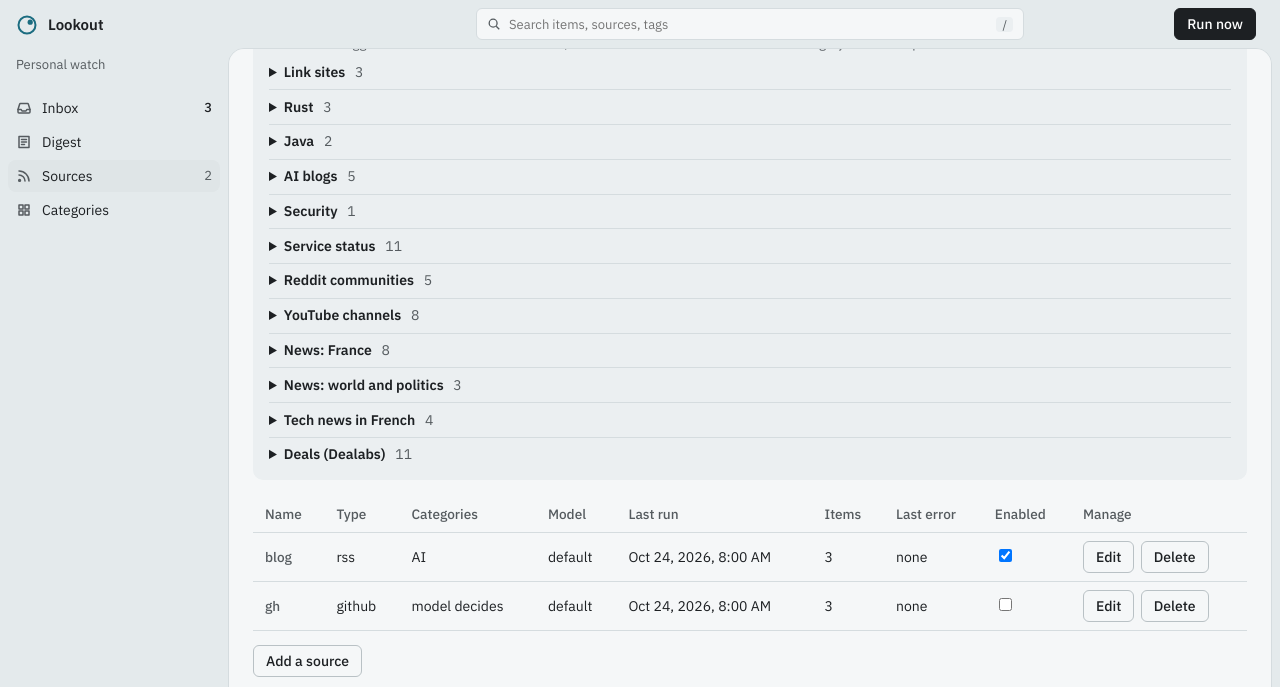
Test: sources › adds an RSS source with its channels and keywords
(page scrolled)
Click the button "Add a source": (308, 661) [253, 645, 362, 677]
(page scrolled)
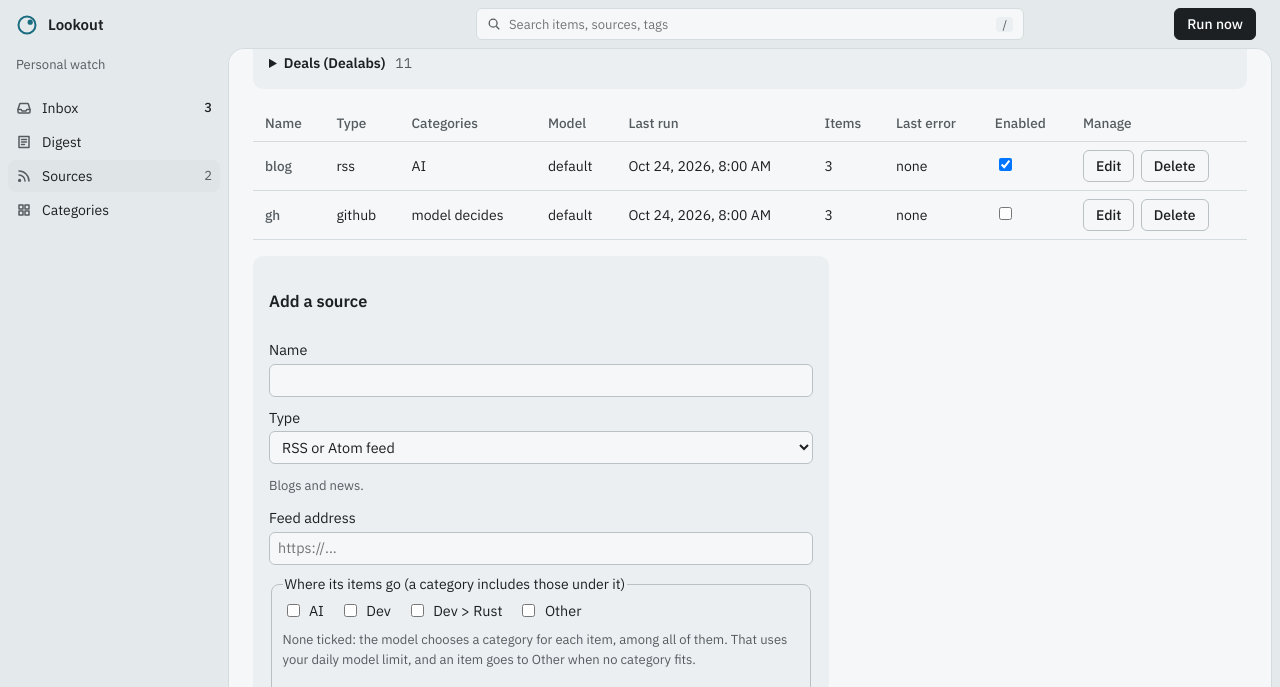
In the field labelled "Name": (541, 380) [269, 364, 813, 397], type "rust-blog"
In the field labelled "Feed address": (541, 548) [269, 532, 813, 565], type " https://rust.test/feed.xml "
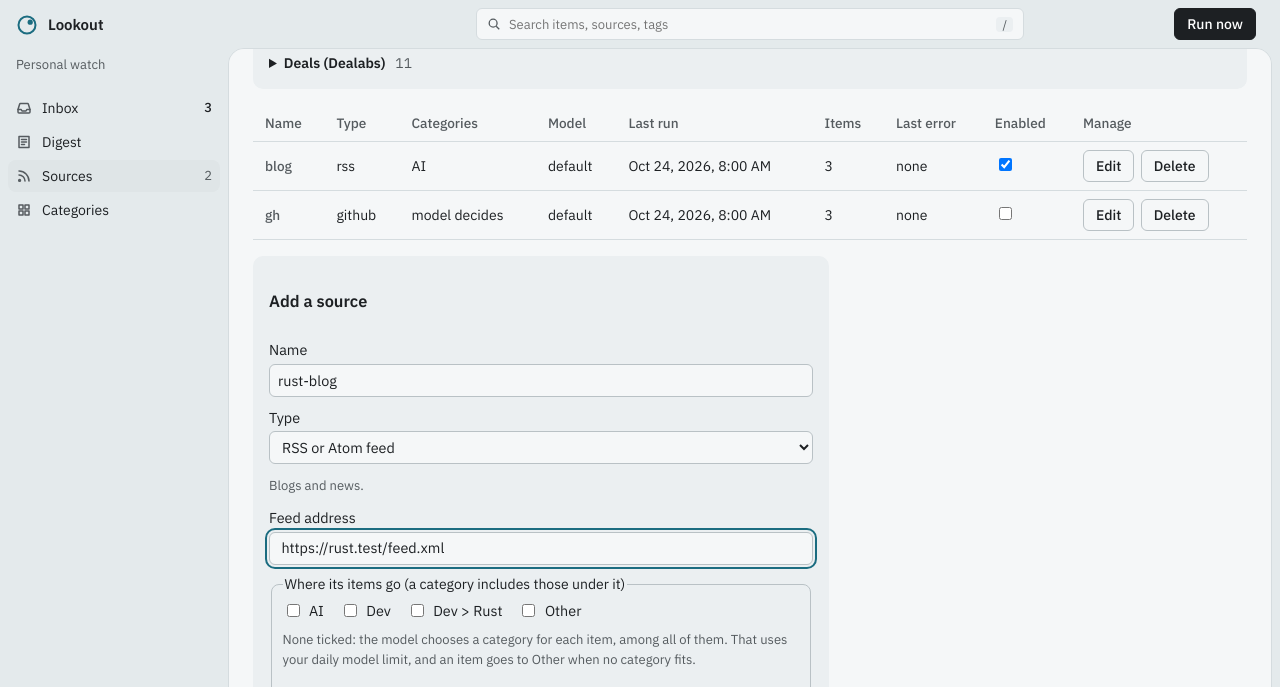
Click the checkbox labelled "Dev > Rust": (417, 611) [411, 604, 424, 618]
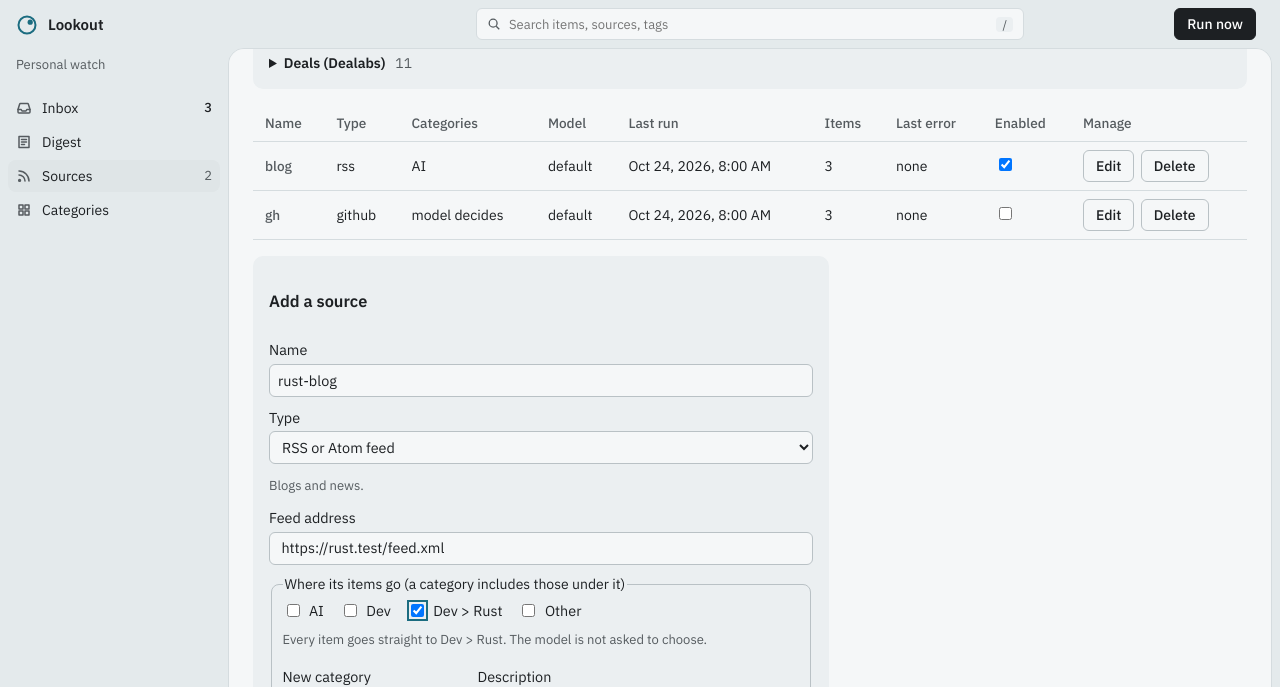
Click the checkbox labelled "AI": (293, 611) [286, 604, 300, 618]
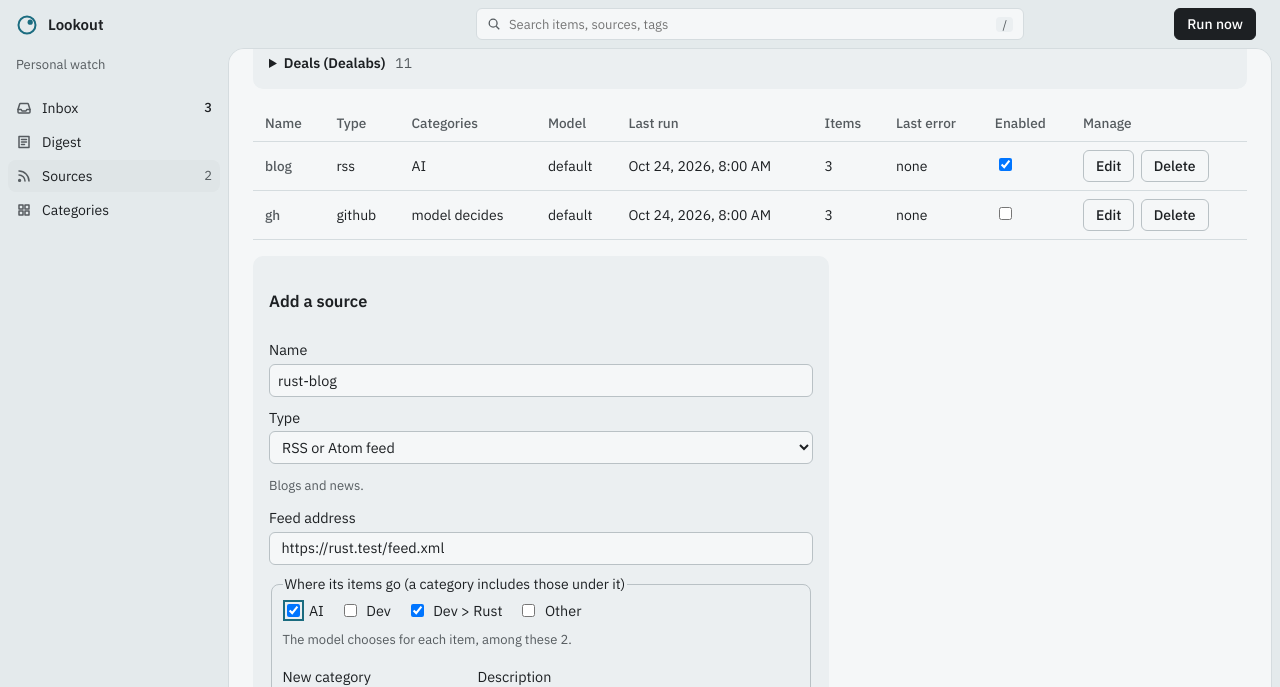
Click the checkbox labelled "AI": (293, 611) [286, 604, 300, 618]
(page scrolled)
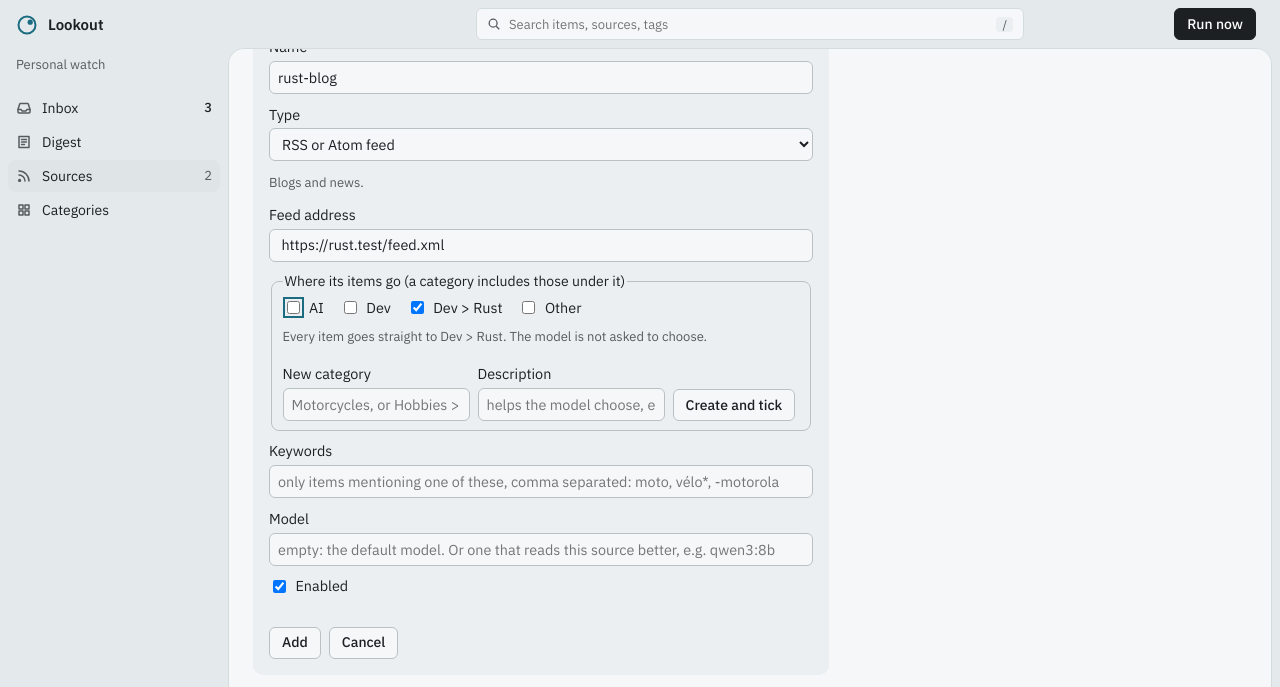
In the field labelled "Keywords": (541, 482) [269, 465, 813, 498], type "rust, , async"
Click the button "Add": (295, 643) [269, 627, 321, 659]
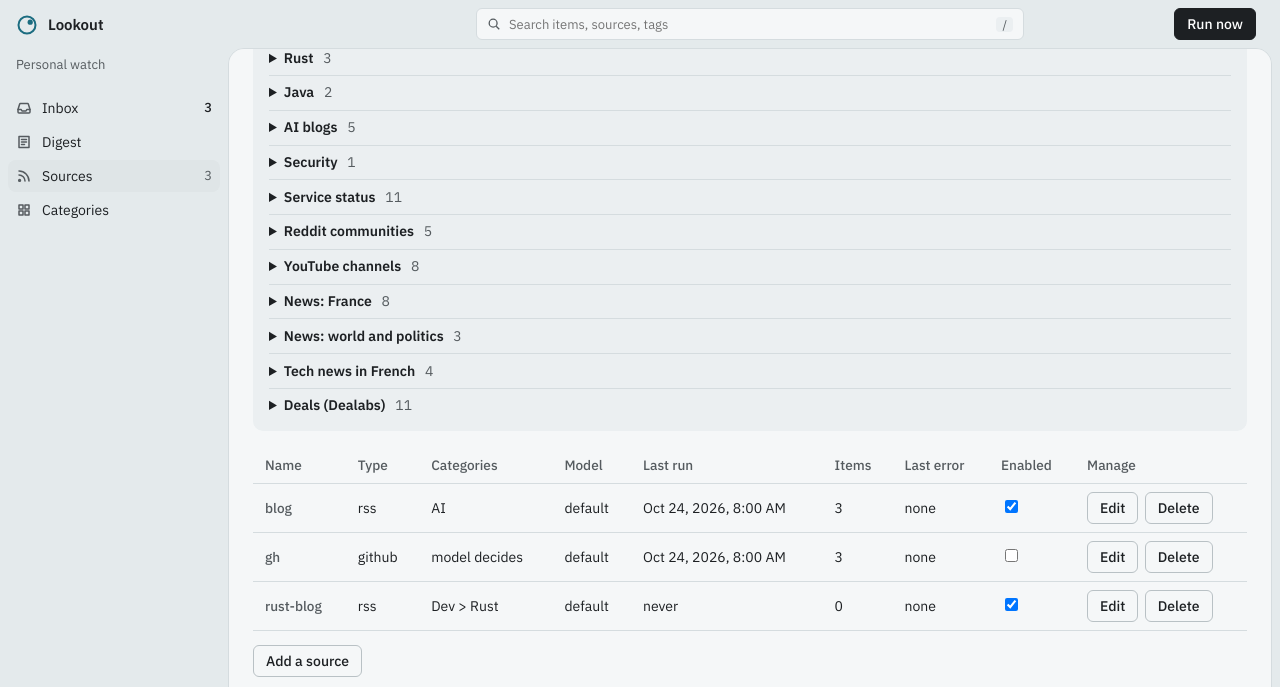
Check: the row "rust-blog rss Dev > Rust default never 0 none Edit Delete" is shown, box [253, 582, 1247, 631]
